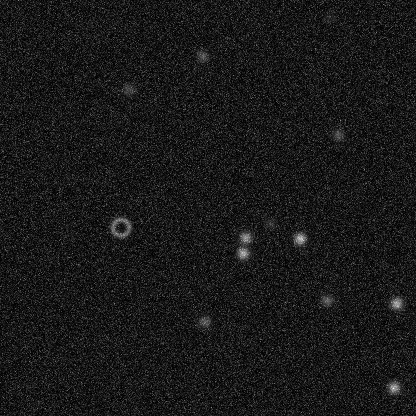Ring: (108, 215, 132, 239)
Spot: (318, 292, 334, 308), (120, 81, 136, 97), (262, 215, 278, 231), (194, 47, 210, 63), (291, 230, 307, 246), (321, 8, 337, 24), (234, 245, 250, 261), (388, 295, 404, 311), (196, 313, 212, 329), (329, 126, 345, 142), (237, 229, 253, 245), (385, 379, 401, 395)
